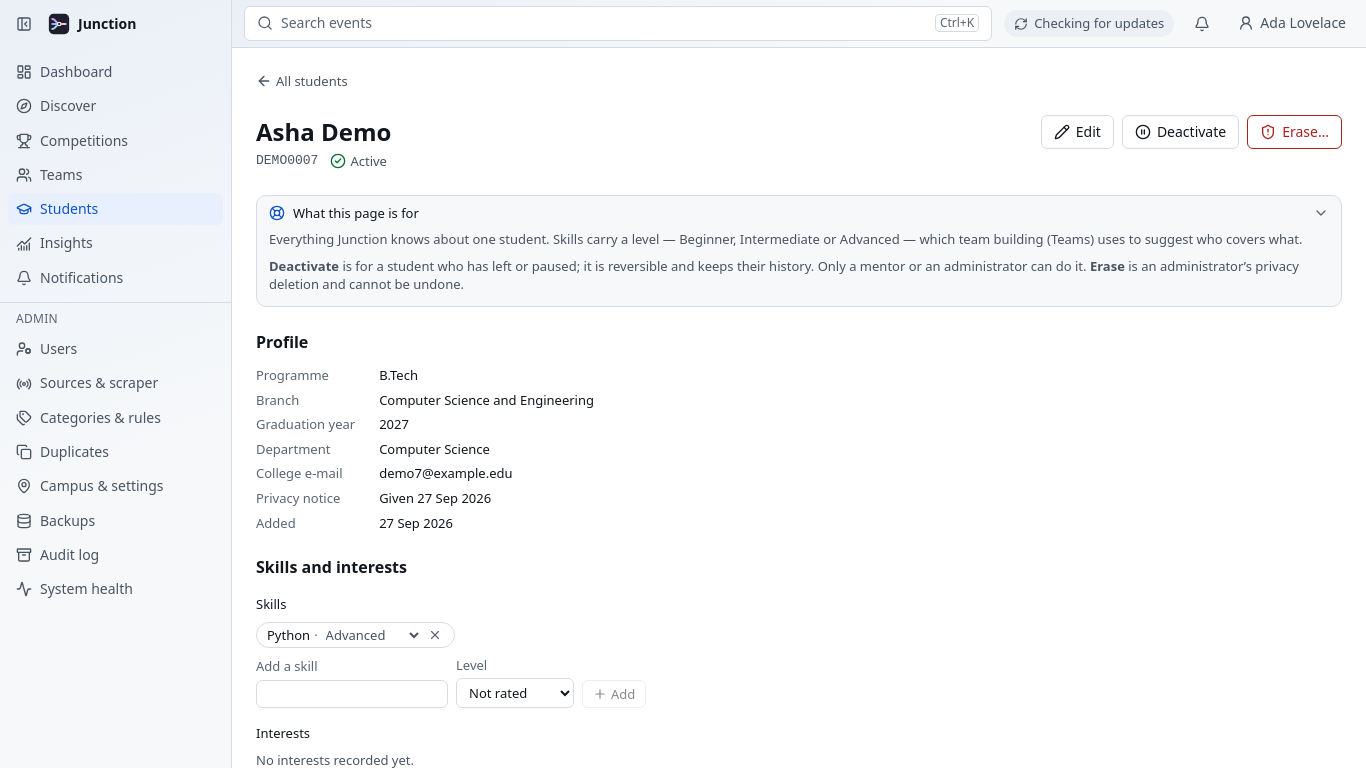
Test: deactivating and erasing › asks an administrator to type the roll number before erasing
Expected: the navigation bar named "Main" is shown, [0, 0, 231, 302]
Expected: the heading "Asha Demo" is shown, [256, 115, 391, 148]
Step 1. Click the button "Erase…" → (1295, 132), box [1247, 115, 1342, 149]
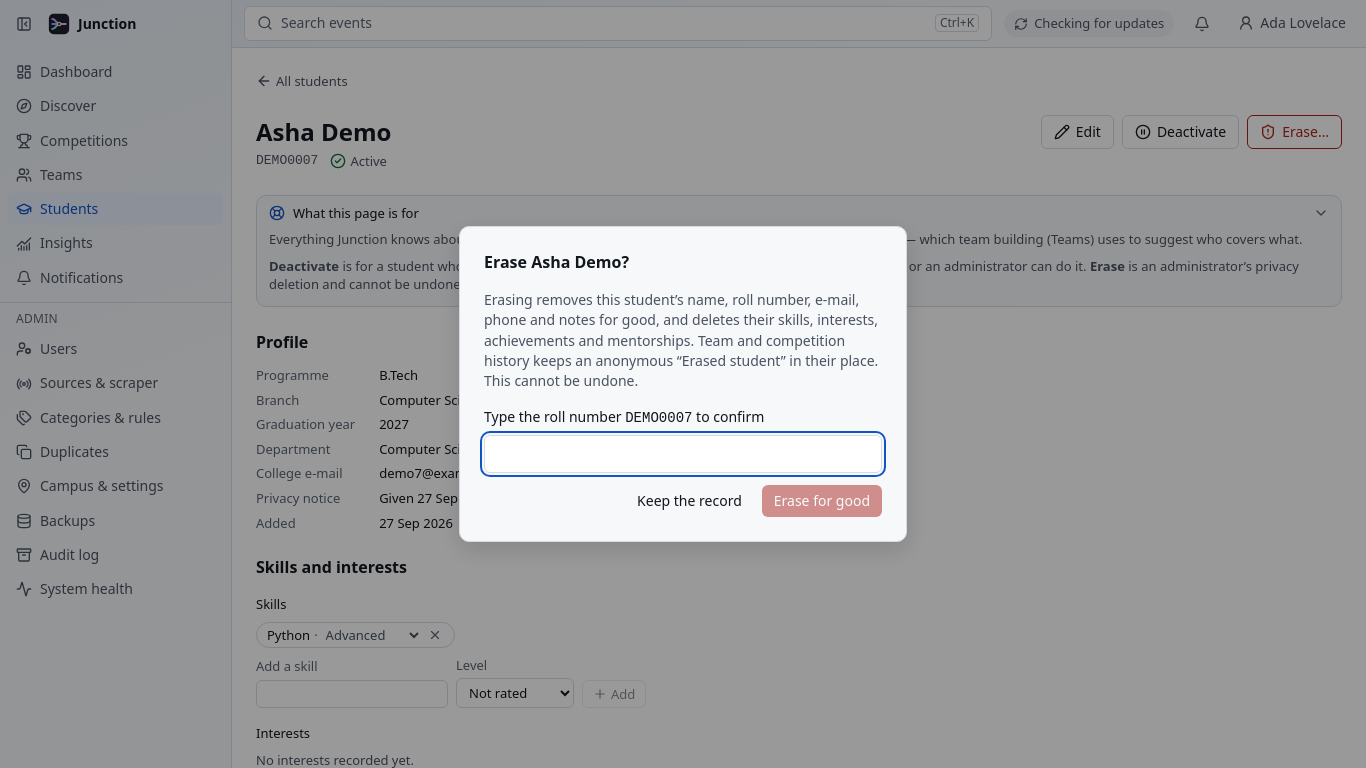
Result: the button "Erase for good" is disabled at [762, 485, 882, 517]
Step 2. Type "demo 0007" into the field → (683, 454), box [484, 435, 882, 473]
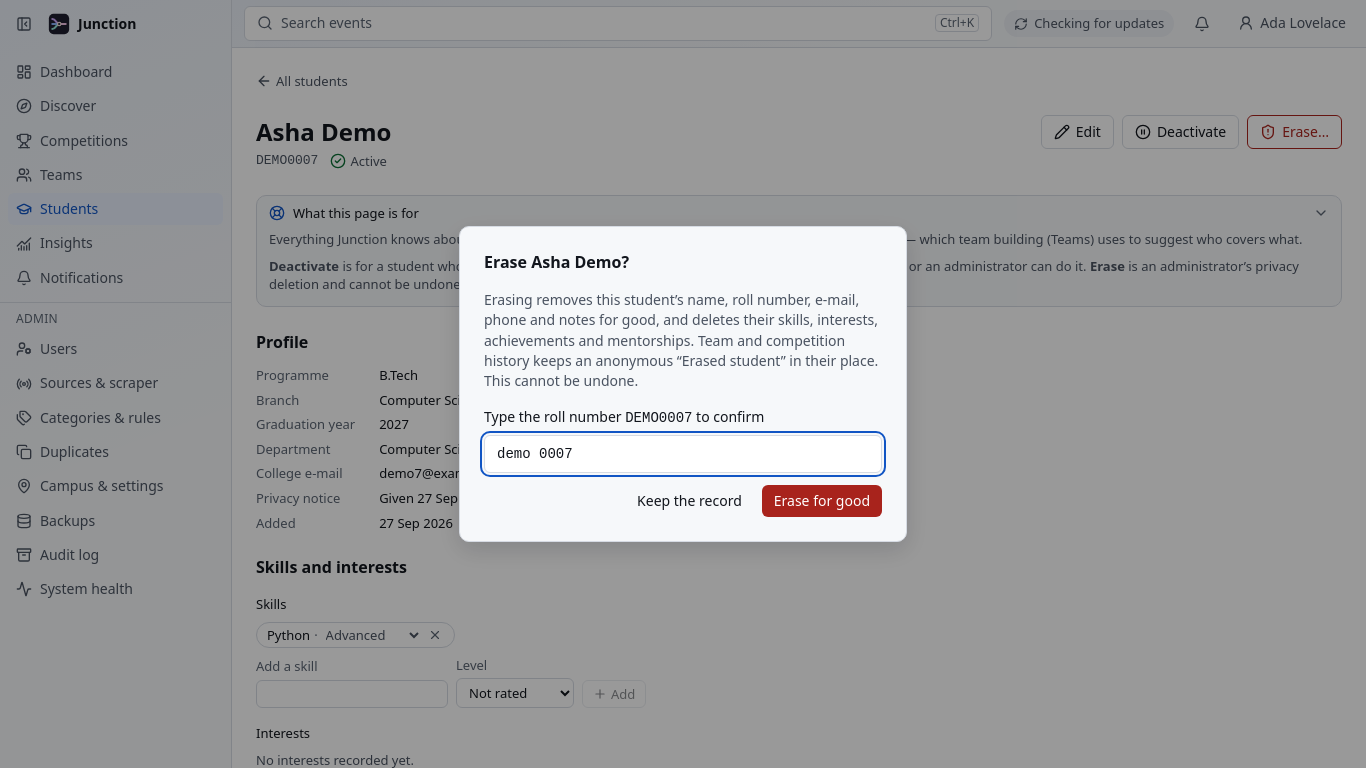
Result: the button "Erase for good" is enabled
Step 3. Click the button "Erase for good" → (822, 501), box [762, 485, 882, 517]
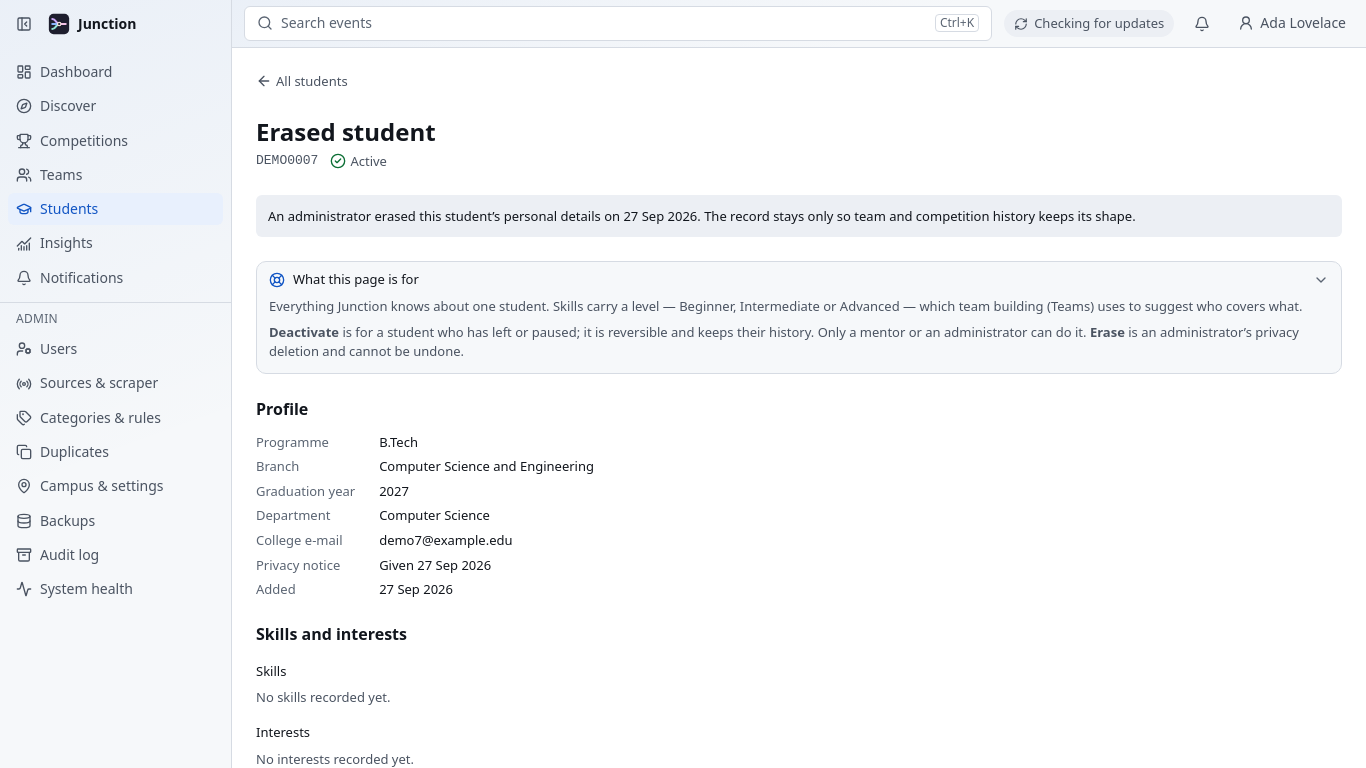
Result: the heading "Erased student" is shown at [256, 115, 436, 148]
